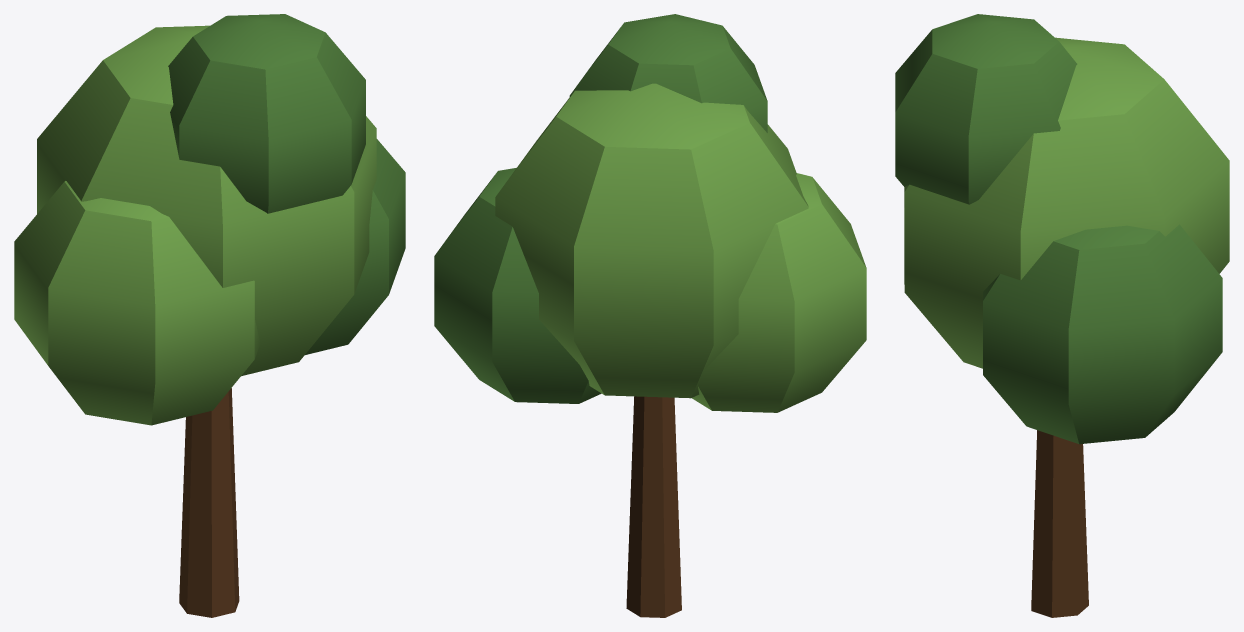
The model's file is PR_Nature_Agac.fbx.
3 views of the same model, side by side, from view 1: azimuth 30°, elevation 25°; view 2: azimuth 150°, elevation 25°; view 3: azimuth 270°, elevation 25° (orthographic). The views are drawn at different scales.
Visible parts, largest first — view 1: PR_Nature_Agac; view 2: PR_Nature_Agac; view 3: PR_Nature_Agac.
Part boxes in pixels (x1,y1,x2,y2): PR_Nature_Agac: (14,14,405,617); PR_Nature_Agac: (434,14,866,617); PR_Nature_Agac: (895,14,1229,617).
Bounding box in the file's own units: 2.37 × 3.45 × 1.77.
